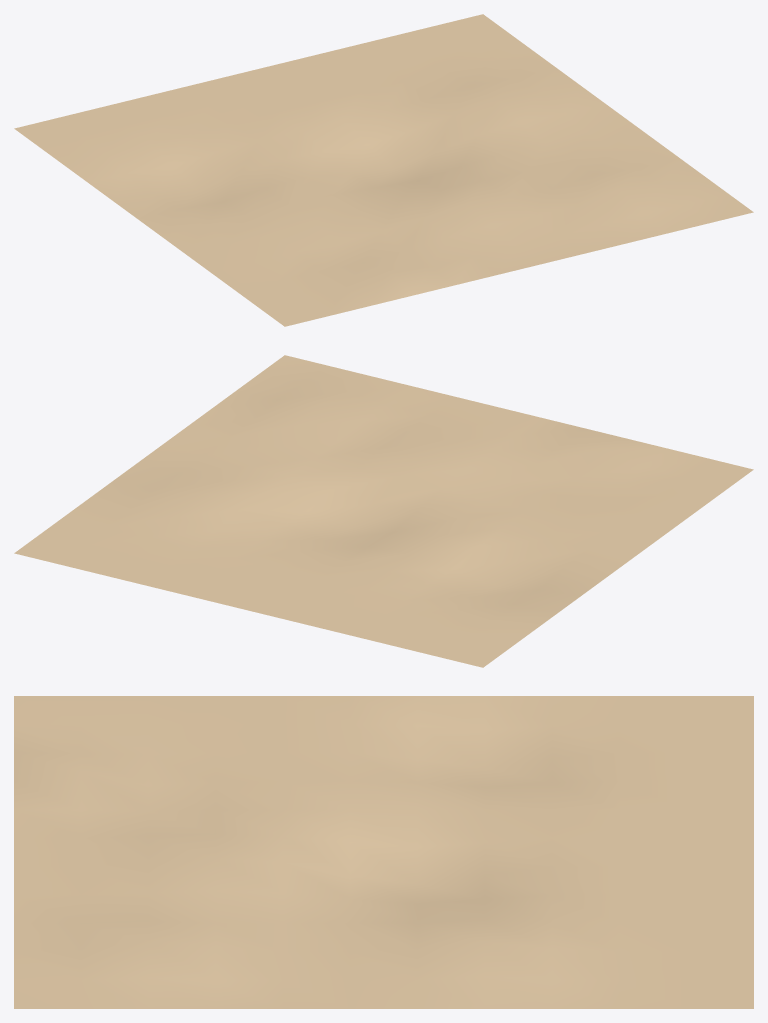
The model's file is sand_flat.fbx.
3 renders of one model, top to bottom at view 1: azimuth 30°, elevation 25°; view 2: azimuth 150°, elevation 25°; view 3: azimuth 270°, elevation 25°, orthographic. The views are drawn at different scales.
Parts seen in each view (by area): view 1: Sand; view 2: Sand; view 3: Sand.
Boxes of the visible parts, x1,y1,x2,y2 form: Sand: (14,14,753,326); Sand: (14,355,753,667); Sand: (14,696,753,1008).
Size of the model in its own units: 100 by 4.17 by 100.
